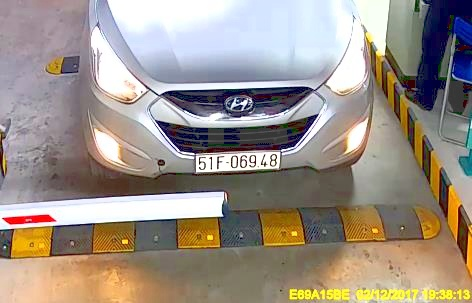plate: (197, 151, 281, 174)
